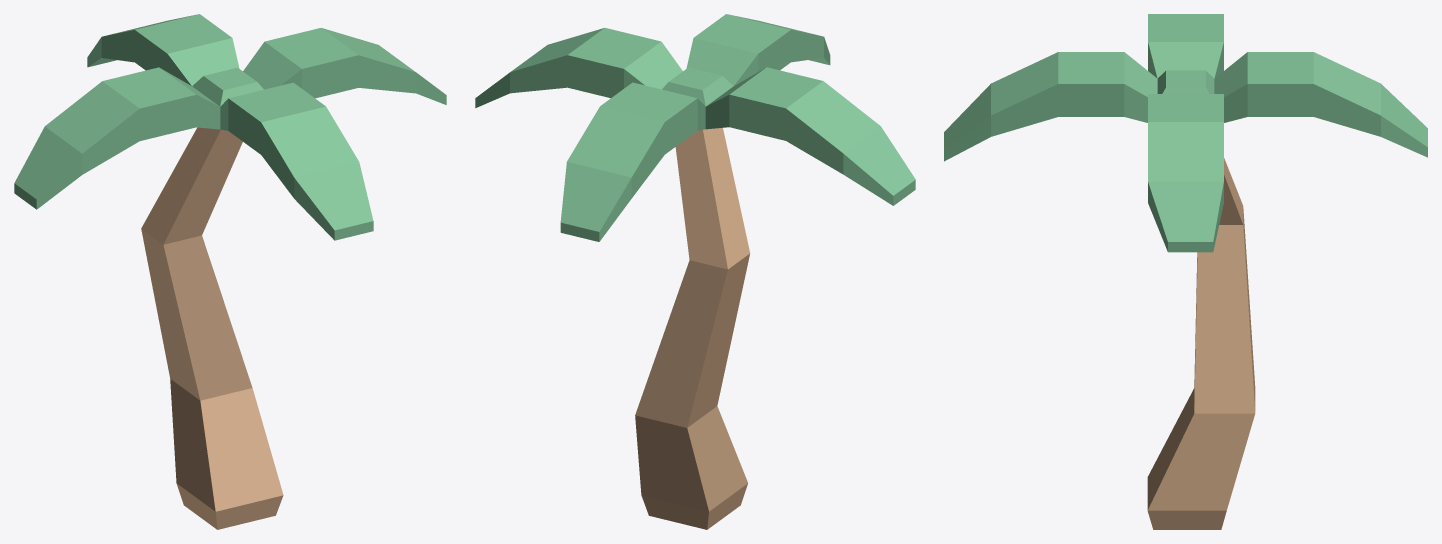
The model's file is palm-short.glb.
3 renders of one model, left to right at view 1: azimuth 30°, elevation 25°; view 2: azimuth 150°, elevation 25°; view 3: azimuth 270°, elevation 25°, orthographic.
Visible parts, largest first — view 1: Group 25, Group 23; view 2: Group 25, Group 23; view 3: Group 25, Group 23.
Part boxes in pixels (box(x1,y1,x2,y2)): Group 25: box(14, 14, 446, 240); Group 23: box(141, 127, 283, 529); Group 25: box(475, 14, 915, 241); Group 23: box(635, 128, 750, 529); Group 25: box(944, 14, 1427, 252); Group 23: box(1147, 158, 1255, 529).
Bounding box in the file's own units: 1.54 × 1.58 × 1.54.
